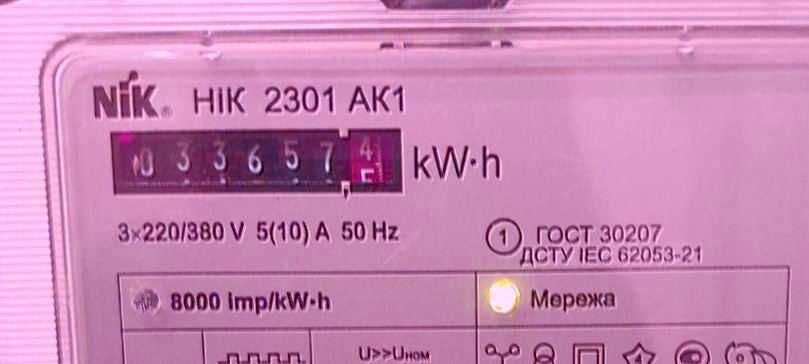0: (136, 144, 157, 181)
3: (174, 140, 193, 175), (210, 139, 228, 174)
4: (357, 134, 376, 164)
5: (280, 137, 302, 173)
6: (244, 142, 264, 177)
7: (317, 139, 335, 175)
screen: (98, 122, 412, 204)
